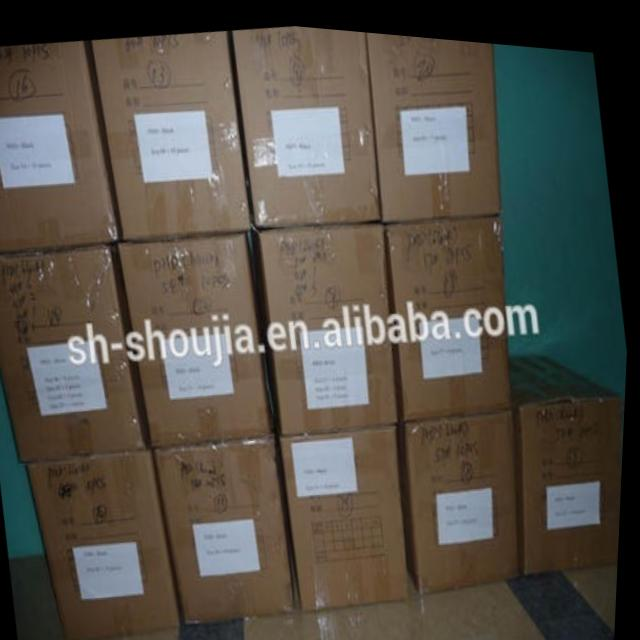box: (92, 27, 255, 239), (119, 226, 275, 446), (0, 242, 149, 463), (27, 448, 188, 640), (232, 21, 383, 222), (260, 216, 401, 430), (156, 429, 302, 624), (386, 206, 516, 414), (366, 26, 503, 216), (0, 39, 121, 251), (285, 418, 416, 607), (515, 345, 626, 567), (401, 401, 524, 585)
